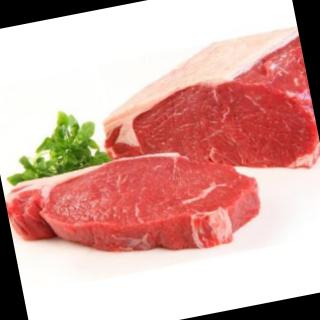Daging Sapi: (88, 26, 320, 205), (7, 141, 270, 286)
